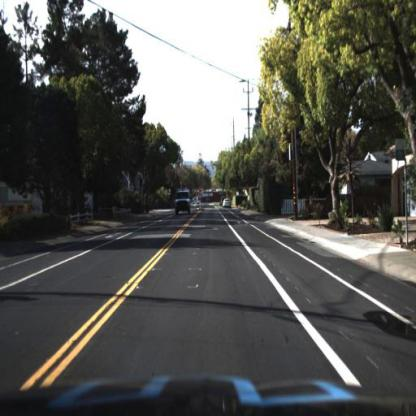car: (170, 191, 194, 225), (221, 196, 233, 211)
